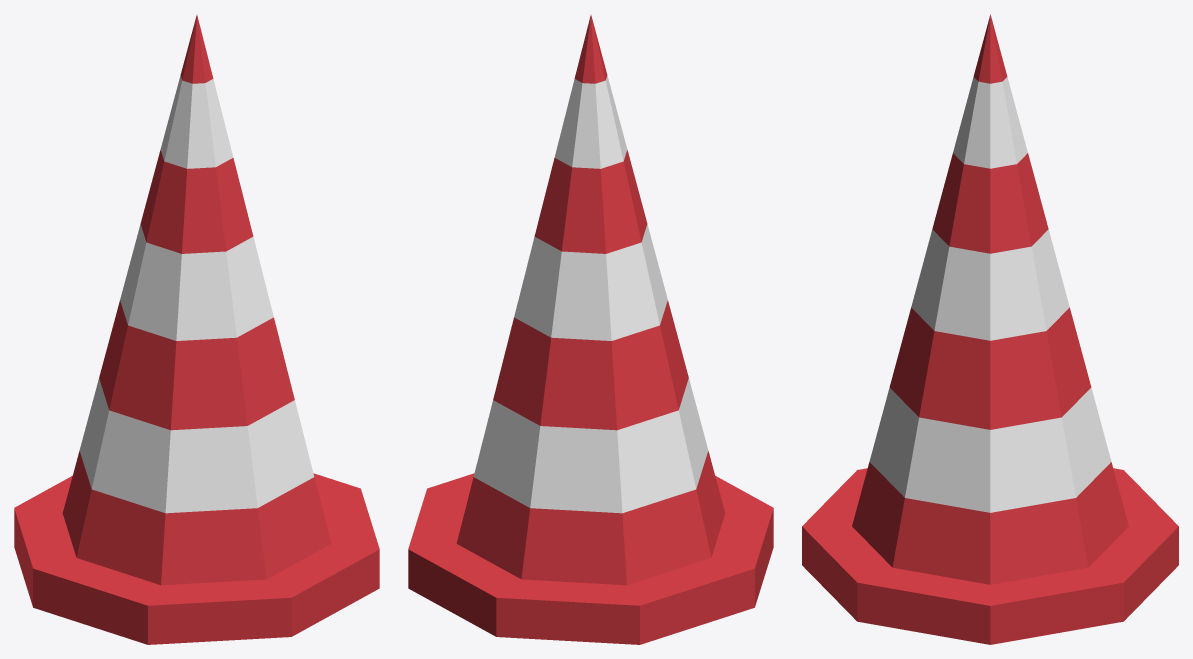
File: stopper1.fbx
3 renders of one model, left to right at view 1: azimuth 30°, elevation 25°; view 2: azimuth 150°, elevation 25°; view 3: azimuth 270°, elevation 25°, orthographic.
Visible parts, largest first — view 1: Stopper; view 2: Stopper; view 3: Stopper.
Boxes of the visible parts, x1=… form: Stopper: x1=14, y1=15, x2=379, y2=644; Stopper: x1=408, y1=15, x2=773, y2=644; Stopper: x1=802, y1=14, x2=1178, y2=644.
Bounding box in the file's own units: 1.32 × 2.13 × 1.32.
